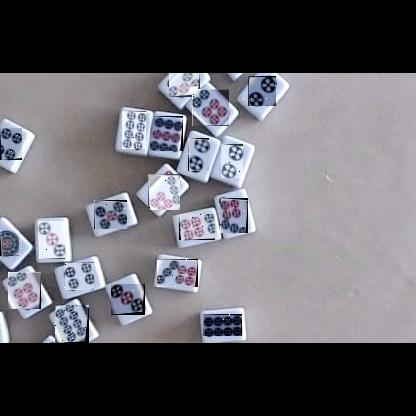1p: (0, 230, 19, 256)
2p: (248, 76, 276, 106), (221, 144, 243, 178), (188, 138, 209, 171)
3p: (111, 284, 145, 315), (38, 221, 65, 259)
4p: (64, 262, 94, 290), (0, 128, 22, 160)
5p: (94, 200, 127, 229), (169, 73, 200, 97)
6p: (192, 89, 229, 126), (8, 272, 41, 309), (179, 214, 215, 240)
7p: (148, 174, 180, 210), (157, 259, 198, 287), (220, 198, 248, 233)
8p: (55, 305, 89, 343), (122, 111, 146, 149), (203, 314, 242, 336)
9p: (150, 116, 183, 151)
